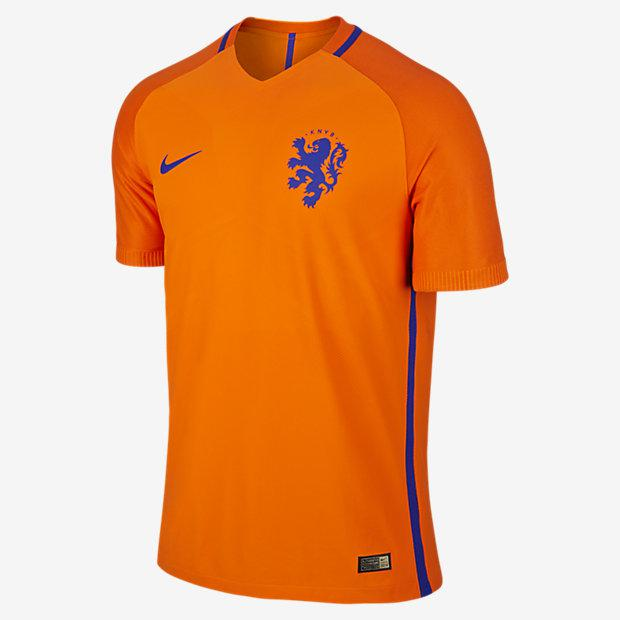teeshirt: (104, 10, 531, 613)
